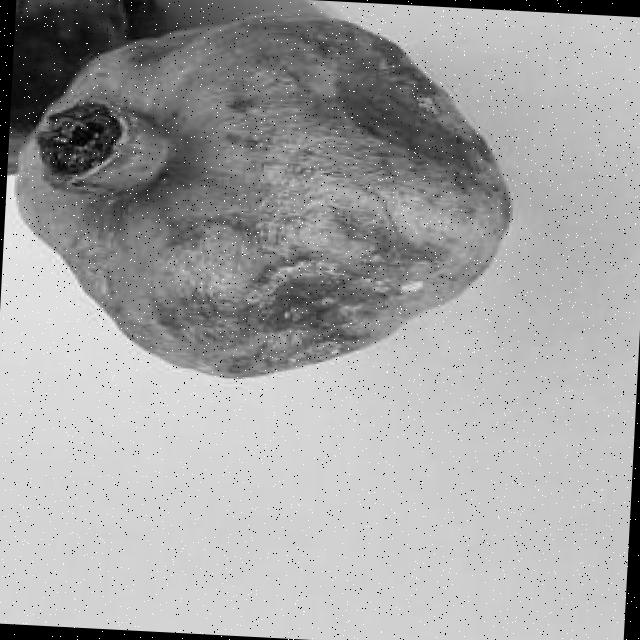overripe: (0, 0, 523, 393)
